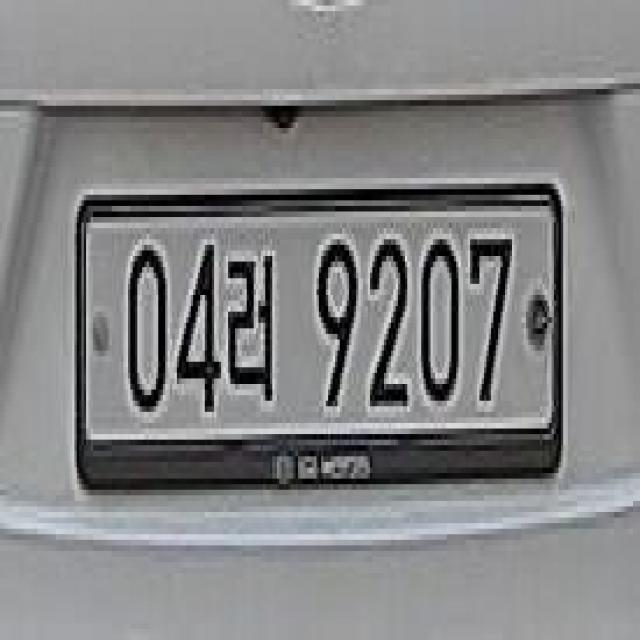illegal_plate: (72, 173, 566, 509)
